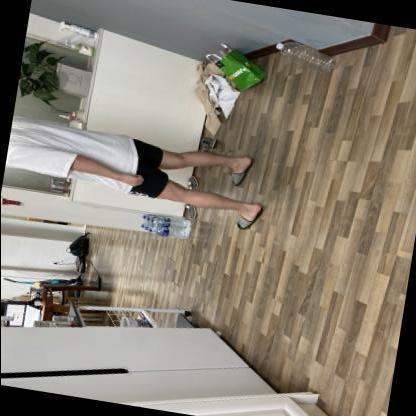no_safety-shoe: (227, 196, 272, 238), (221, 150, 265, 192)
